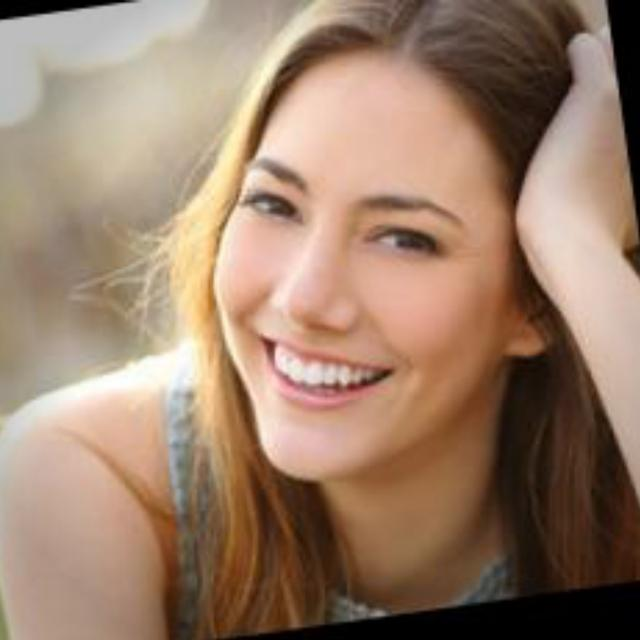Happy: (24, 15, 640, 596)
